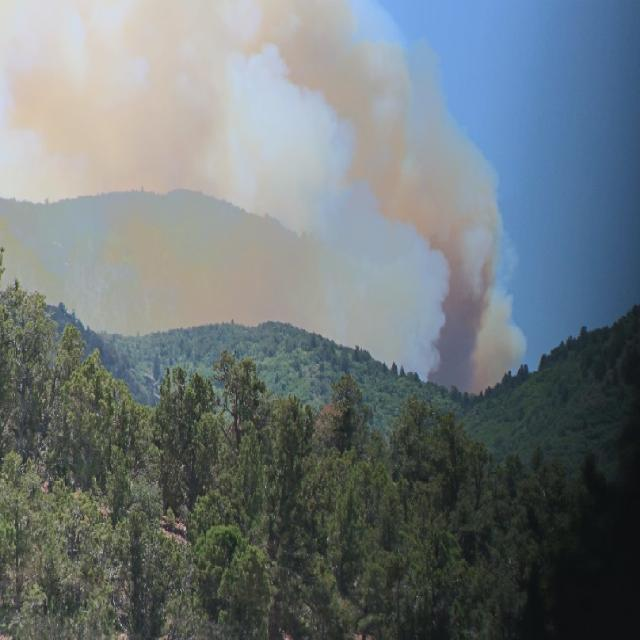Smoke: (348, 2, 528, 420), (14, 3, 340, 220)
